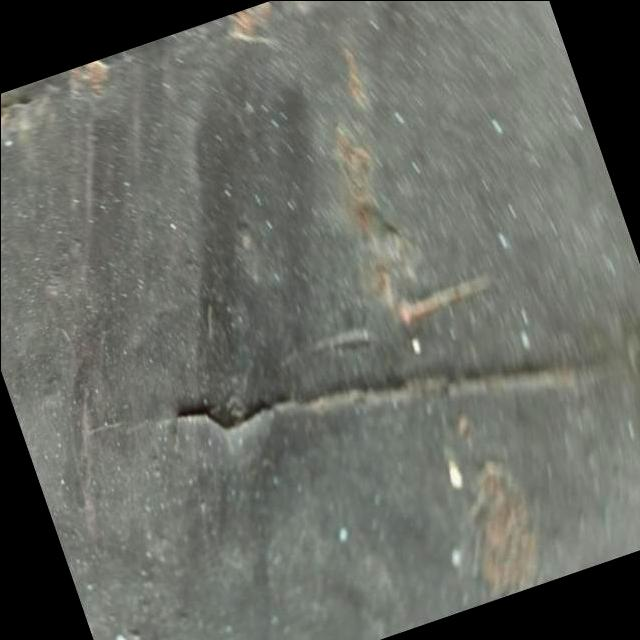defect: (168, 354, 595, 438)
